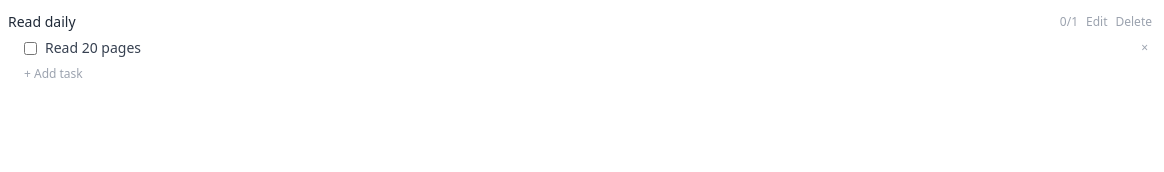
Test: GoalRow › clicking Edit shows an input pre-filled with goal text
The width and height of the screenshot is (1164, 172).
Click the button "Edit" at (1097, 22), box [1086,14,1108,30]
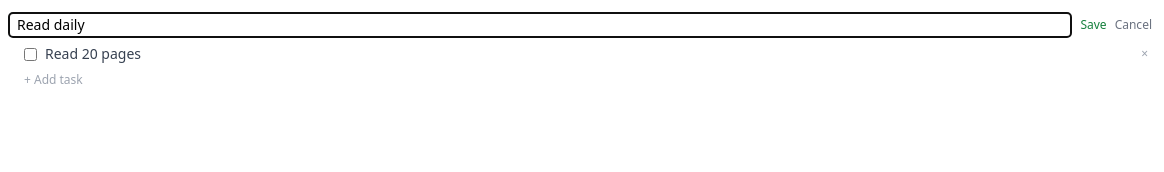
Result: the field showing "Read daily" is shown at [8,12,1072,38]
